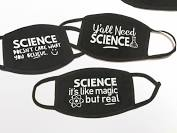cloth_mask: (32, 66, 162, 119)
